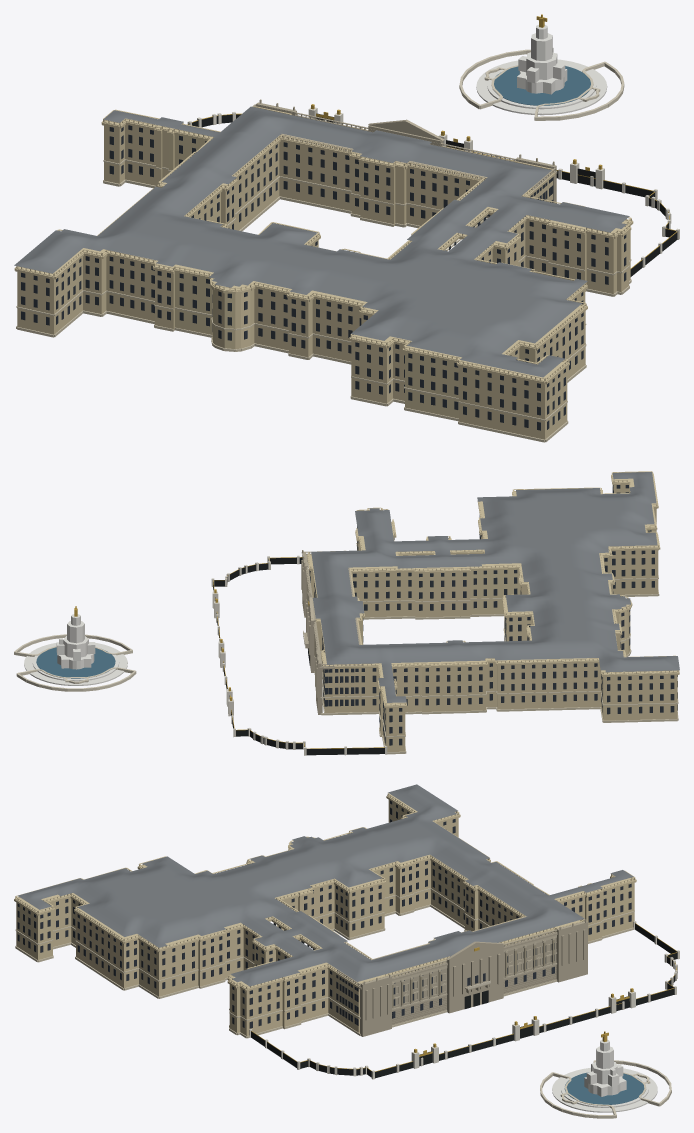
The model's file is buckingham-site-b85.glb.
3 views of the same model, one above another, from view 1: azimuth 30°, elevation 25°; view 2: azimuth 150°, elevation 25°; view 3: azimuth 270°, elevation 25° (orthographic). The views are drawn at different scales.
Bounding box in the file's own units: 265 × 27.71 × 264.
